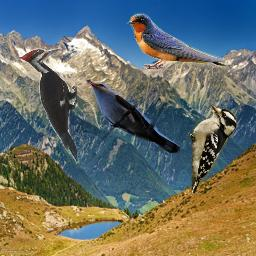Cuckoo: (84, 78, 180, 153)
Swallow: (126, 12, 226, 72)
Woodpecker: (17, 48, 77, 165), (188, 104, 237, 193)
